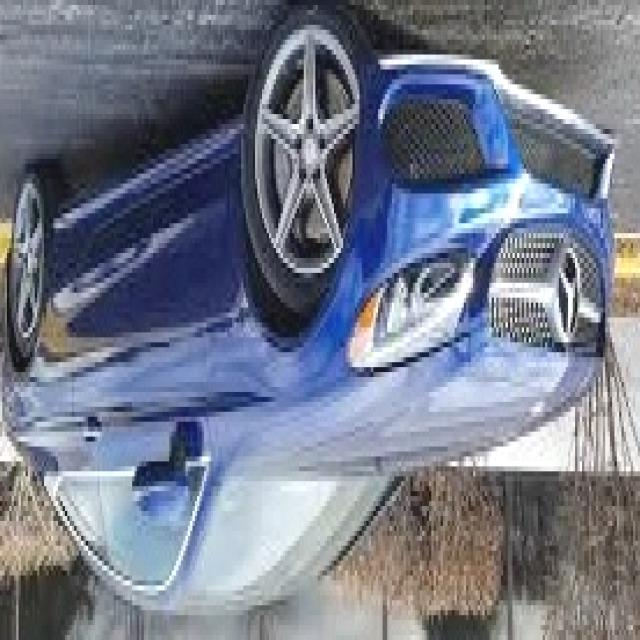blue: (0, 10, 614, 614)
